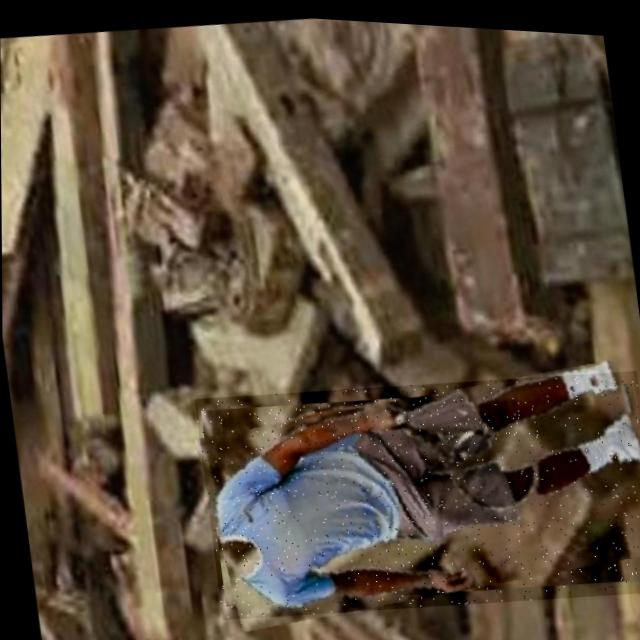Person in Rubble: (193, 340, 640, 635)
